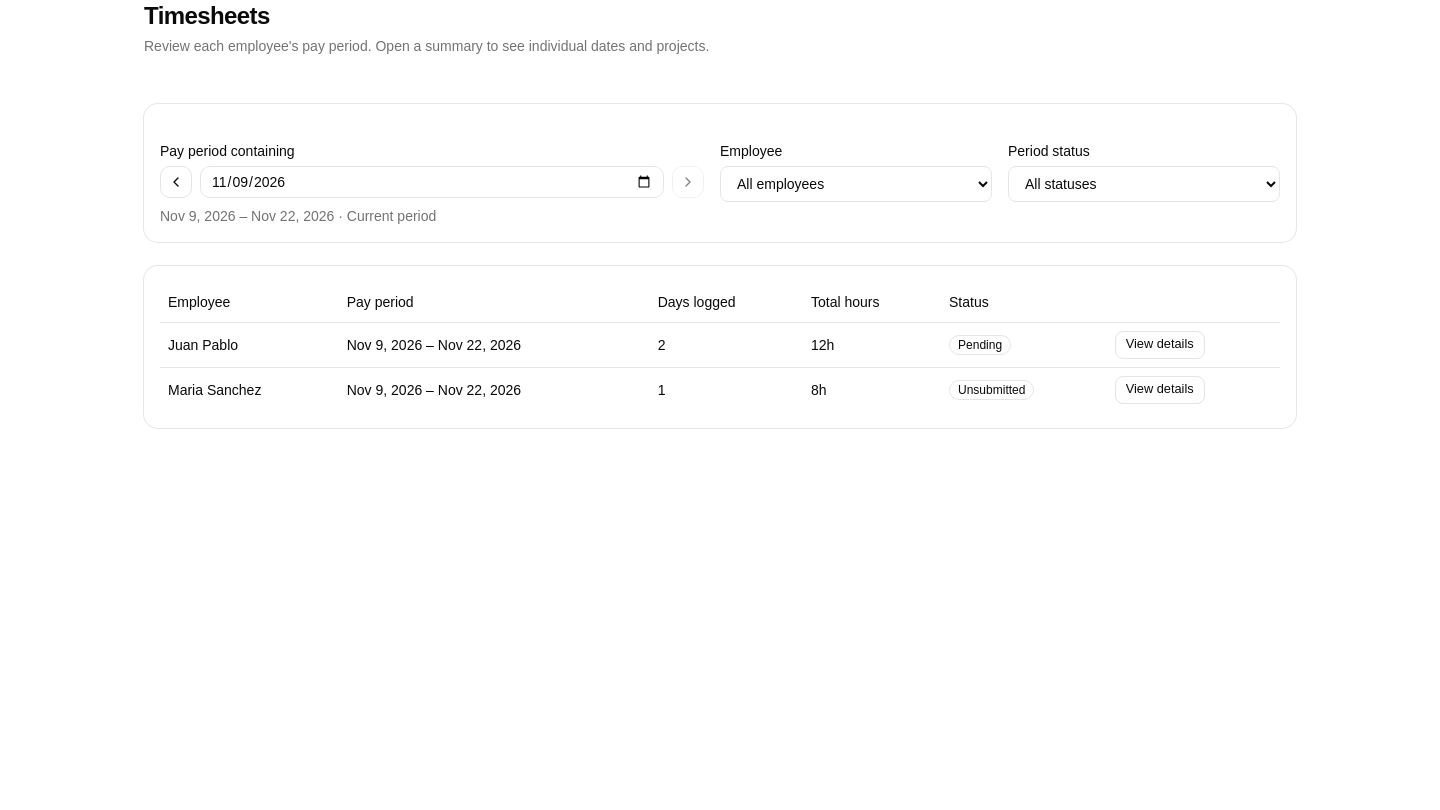
View details opens individual dates and projects, then Close dismisses it
Click the button with aria-label "View Juan Pablo's timesheet details".
click(1160, 344)  # box [1115, 330, 1205, 358]
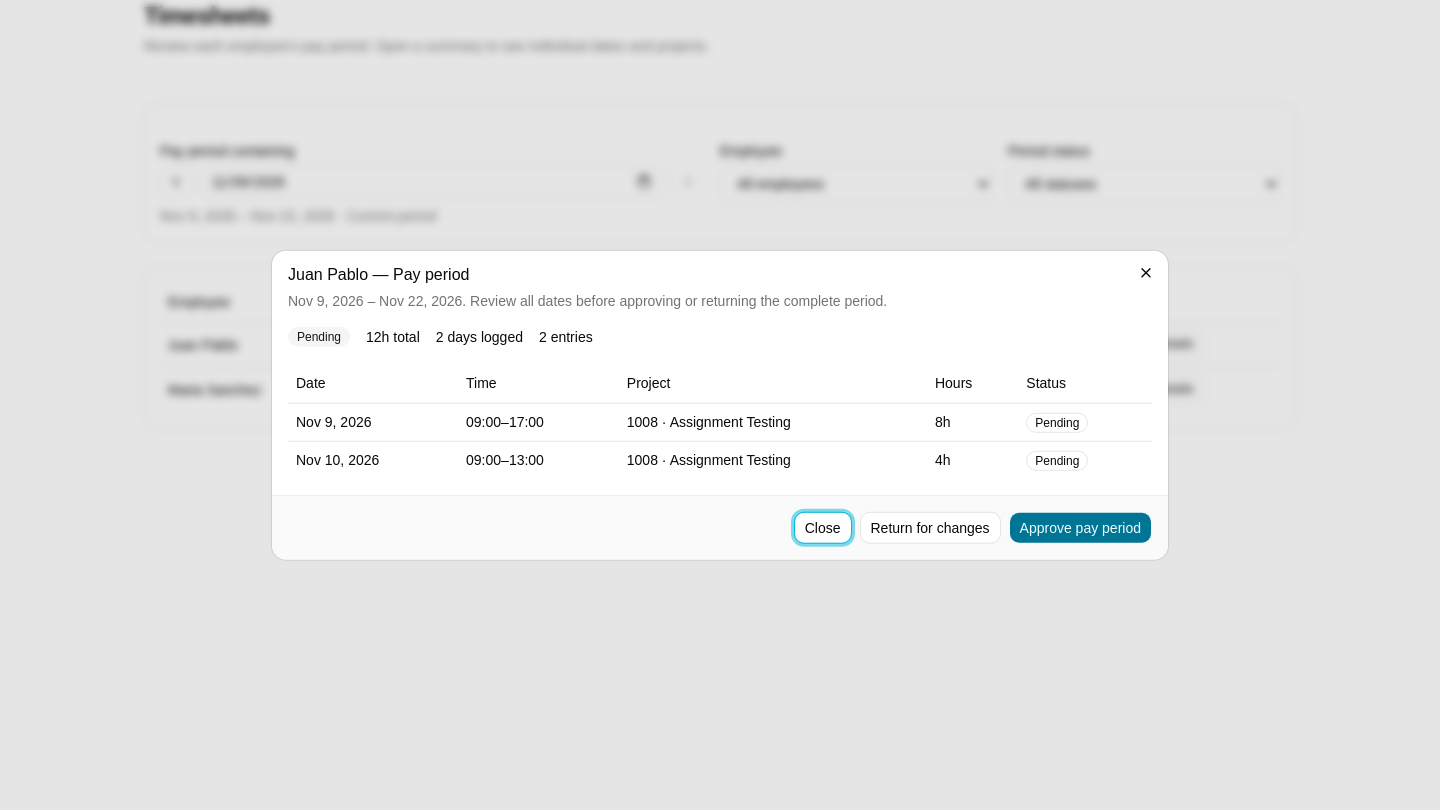
Expected: the text "Nov 9, 2026" is shown, [288, 403, 458, 441]
Expected: the text "Nov 10, 2026" is shown, [288, 441, 458, 478]
Expected: the text "1008 · Assignment Testing" is shown 2 times, [619, 403, 927, 441]; [619, 441, 927, 478]
Click the button "Close".
click(823, 527)  # box [794, 511, 852, 543]
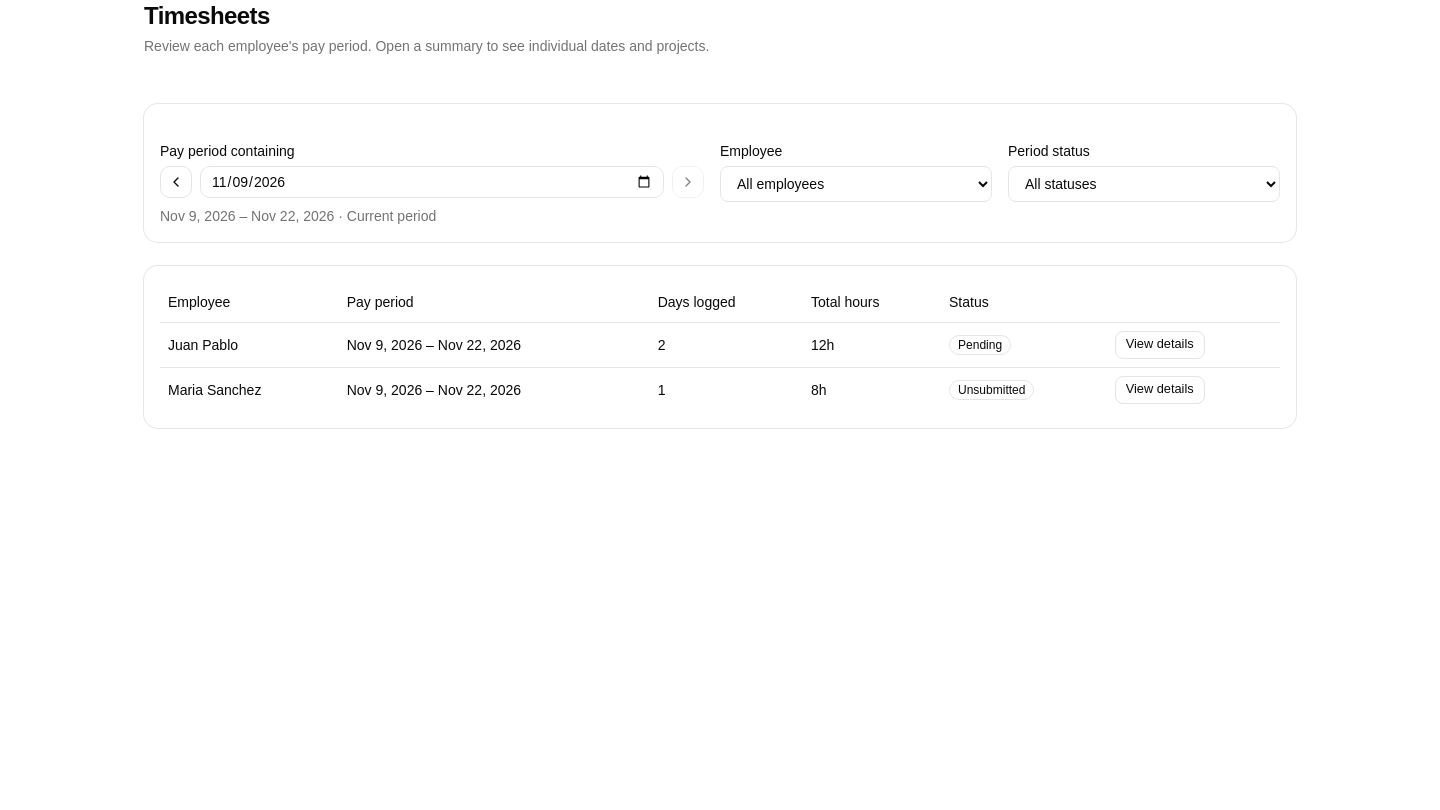
Expected: the dialog is gone
